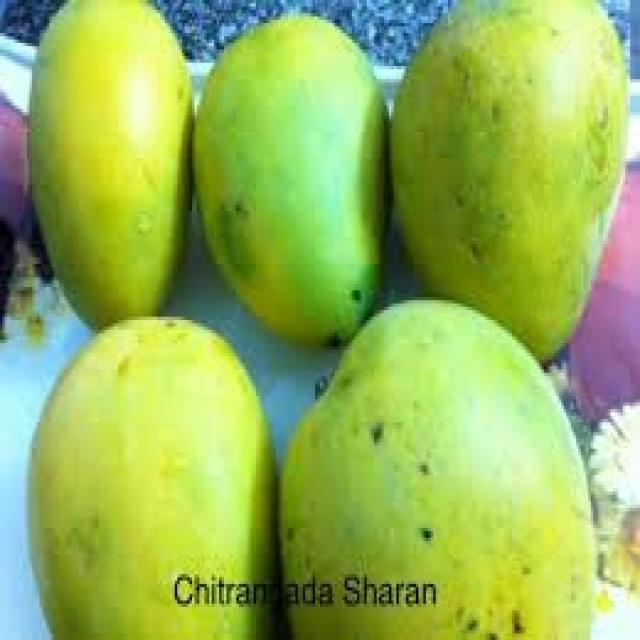Mango: (276, 294, 594, 636), (389, 0, 628, 363), (25, 313, 278, 637), (192, 9, 389, 347), (25, 0, 193, 325)
